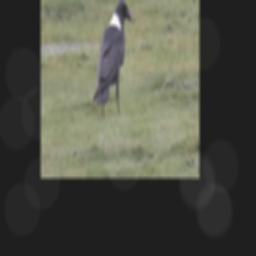Crow: (92, 0, 131, 115)
